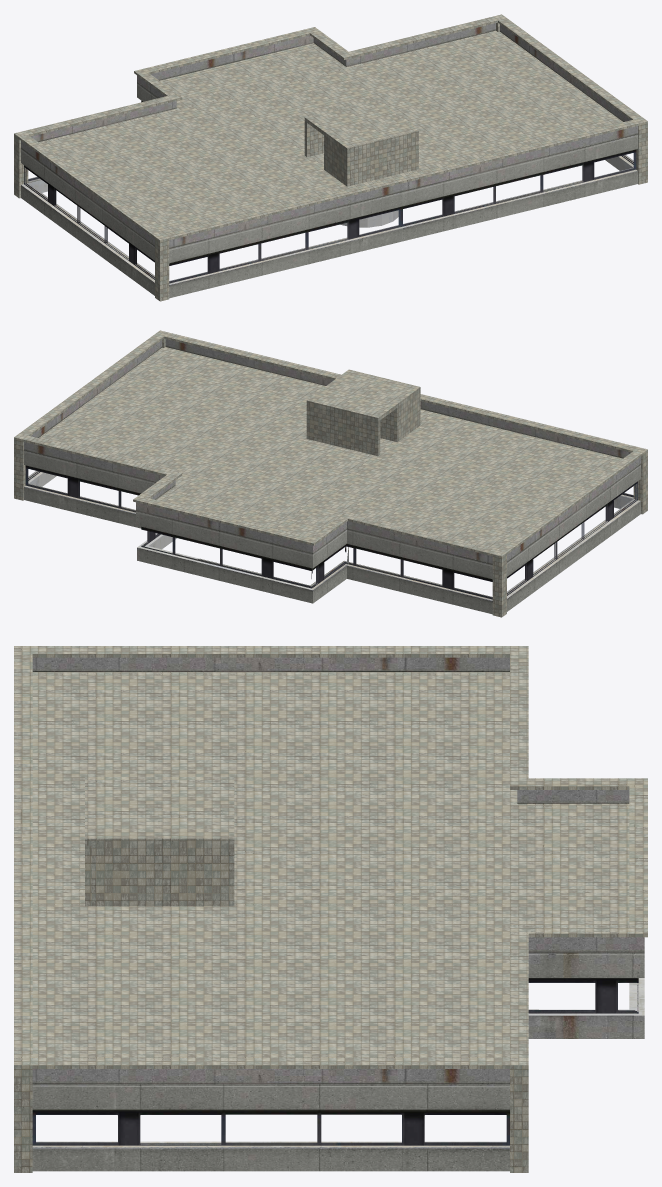
The model's file is BagSS05top_300.fbx.
3 views of the same model, one above another, from view 1: azimuth 30°, elevation 25°; view 2: azimuth 150°, elevation 25°; view 3: azimuth 270°, elevation 25° (orthographic). The views are drawn at different scales.
Visible parts, largest first — view 1: topRoof300, topMain300, topShed300, topwalls300; view 2: topRoof300, topMain300, topShed300, topwalls300; view 3: topRoof300, topMain300, topShed300, topwalls300.
Part boxes in pixels (bbox=[...]): topRoof300: bbox=[14, 14, 647, 301]; topMain300: bbox=[21, 23, 637, 298]; topShed300: bbox=[304, 100, 418, 186]; topwalls300: bbox=[21, 155, 637, 284]; topRoof300: bbox=[14, 330, 647, 617]; topMain300: bbox=[24, 339, 640, 614]; topShed300: bbox=[306, 369, 420, 456]; topwalls300: bbox=[24, 471, 640, 600]; topRoof300: bbox=[14, 646, 647, 1172]; topMain300: bbox=[32, 657, 644, 1171]; topShed300: bbox=[85, 777, 234, 906]; topwalls300: bbox=[32, 978, 644, 1148].
Size of the model in its own units: 42.55 by 7.33 by 27.2.
